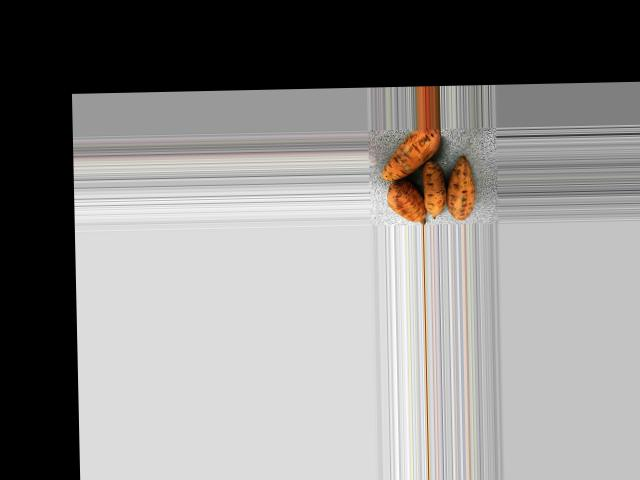sweet_potato: (375, 128, 448, 180)
